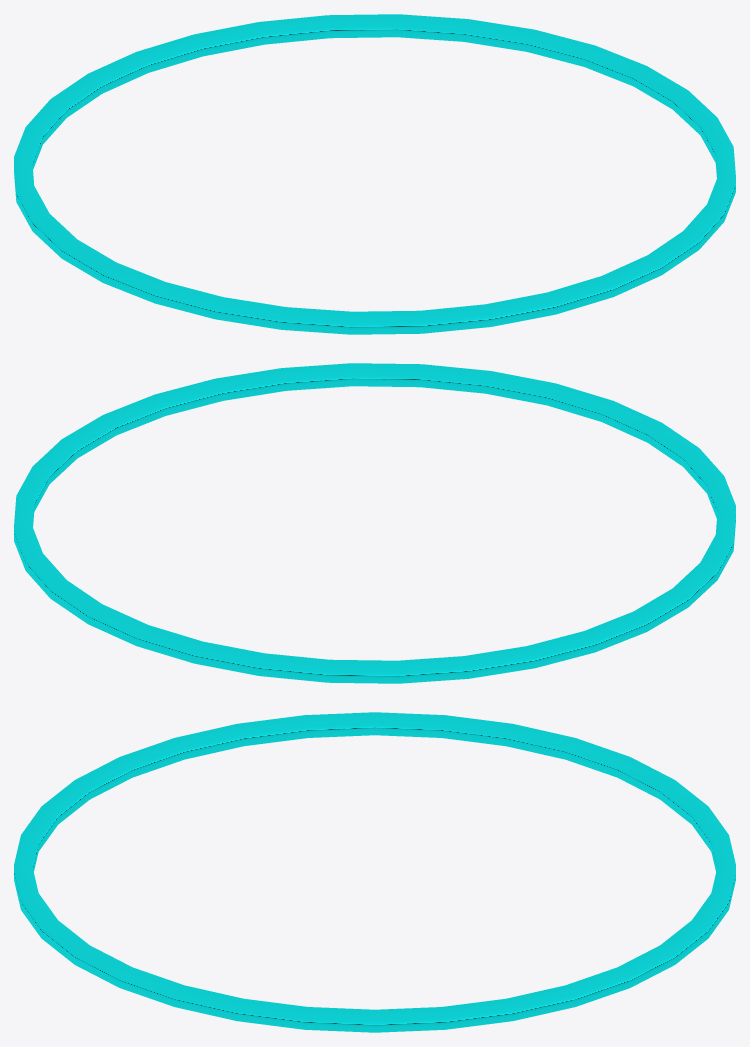
The picture shows the model from 3 angles, top to bottom: view 1: azimuth 30°, elevation 25°; view 2: azimuth 150°, elevation 25°; view 3: azimuth 270°, elevation 25°; orthographic projection.
Visible parts, largest first — view 1: Cylinder; view 2: Cylinder; view 3: Cylinder.
Part boxes in pixels (left/top/right/bottom): Cylinder: left=14, top=14, right=735, bottom=334; Cylinder: left=14, top=363, right=735, bottom=683; Cylinder: left=14, top=712, right=735, bottom=1032.
Size of the model in its own units: 74.97 by 1.77 by 74.97.
